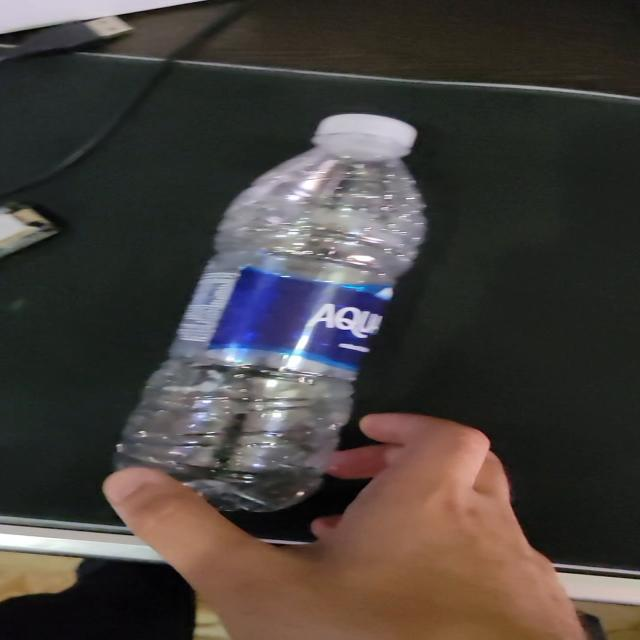Anorganik: (103, 111, 436, 516)
